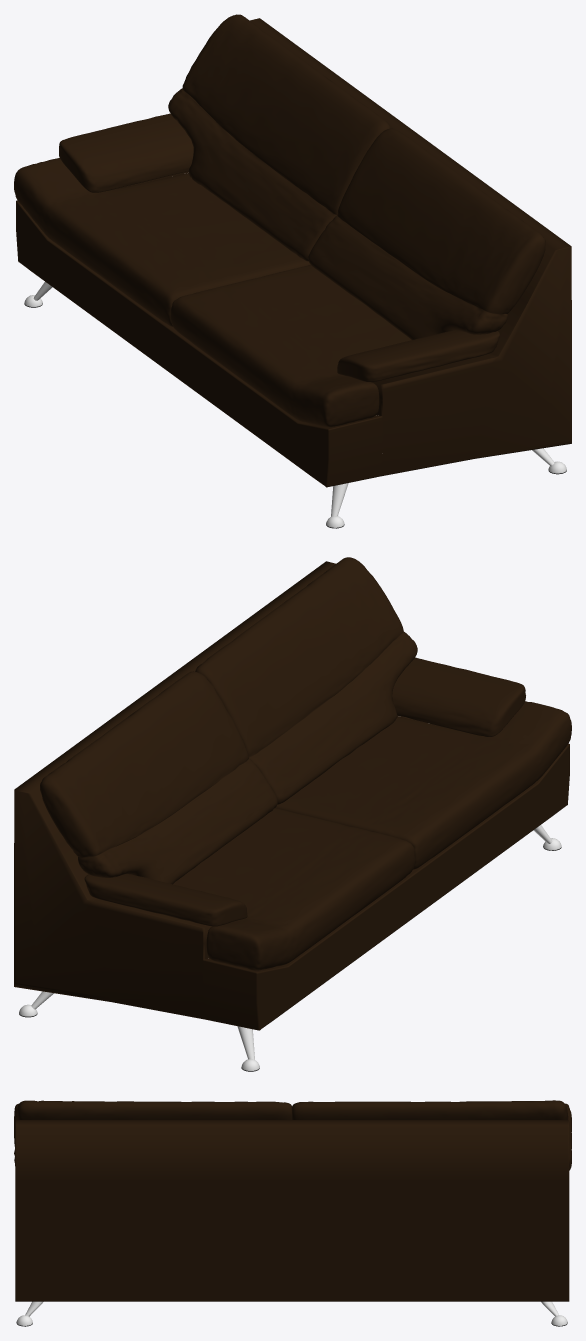
The model's file is couch.glb.
The picture shows the model from 3 angles, top to bottom: view 1: azimuth 30°, elevation 25°; view 2: azimuth 150°, elevation 25°; view 3: azimuth 270°, elevation 25°; orthographic projection. The views are drawn at different scales.
Parts seen in each view (by area): view 1: espaldar sofa, sofa-base, sofa-cojin, sofa-brazos; view 2: espaldar sofa, sofa-base, sofa-cojin, sofa-brazos; view 3: sofa-base, espaldar sofa.
Boxes of the visible parts, <box> form: espaldar sofa: <box>168,14,545,339</box>; sofa-base: <box>16,18,571,528</box>; sofa-cojin: <box>14,158,411,427</box>; sofa-brazos: <box>59,113,499,381</box>; espaldar sofa: <box>40,557,417,884</box>; sofa-base: <box>14,561,569,1071</box>; sofa-cojin: <box>173,701,571,970</box>; sofa-brazos: <box>84,657,525,926</box>; sofa-base: <box>15,1120,569,1326</box>; espaldar sofa: <box>16,1100,568,1119</box>.
Bounding box in the file's own units: 91.24 × 84.87 × 201.
